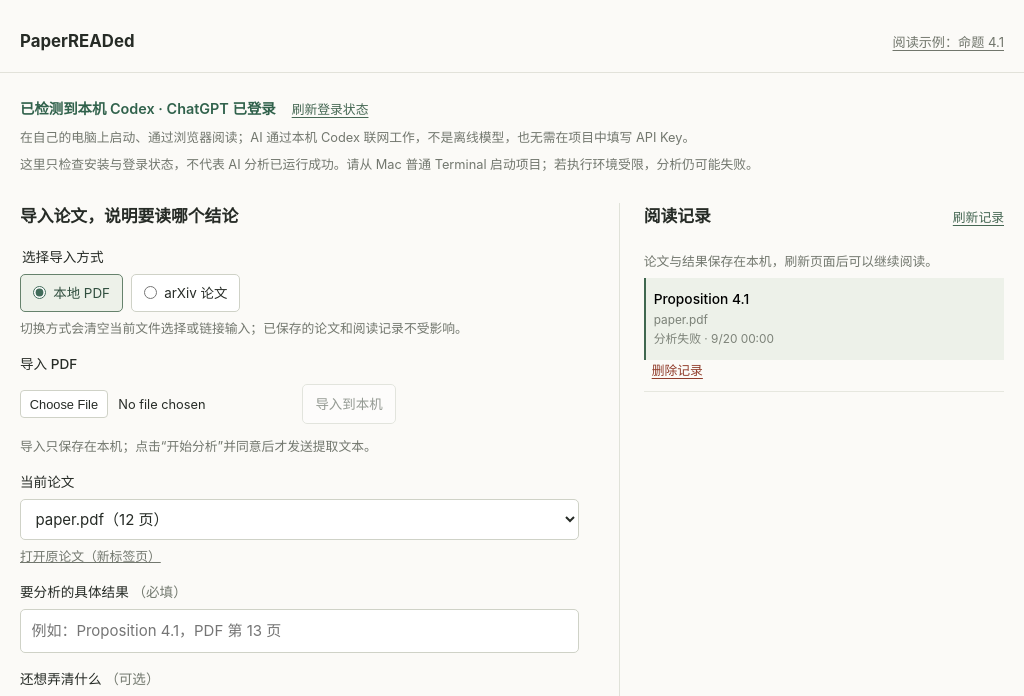
it: LocalReader › 重试历史任务清除待导入的 arXiv 输入，不下载也不自动分析
Click the radio button labelled "arXiv 论文" at (151, 293), box [144, 286, 157, 299]
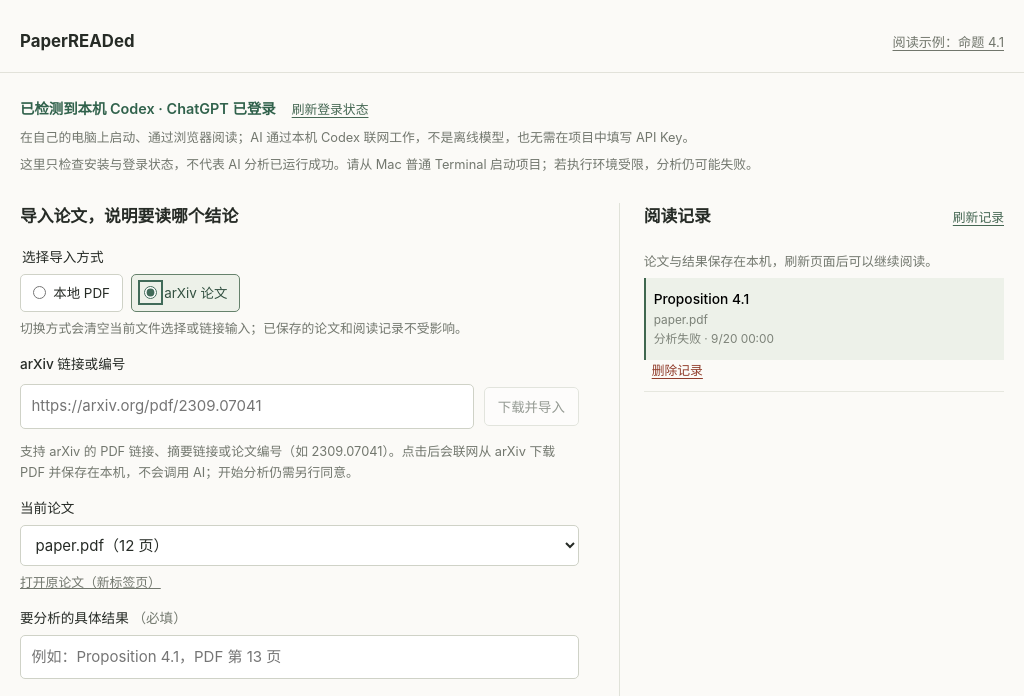
Type "2309.07041" into the field labelled "arXiv 链接或编号" at (247, 407), box [20, 384, 474, 429]
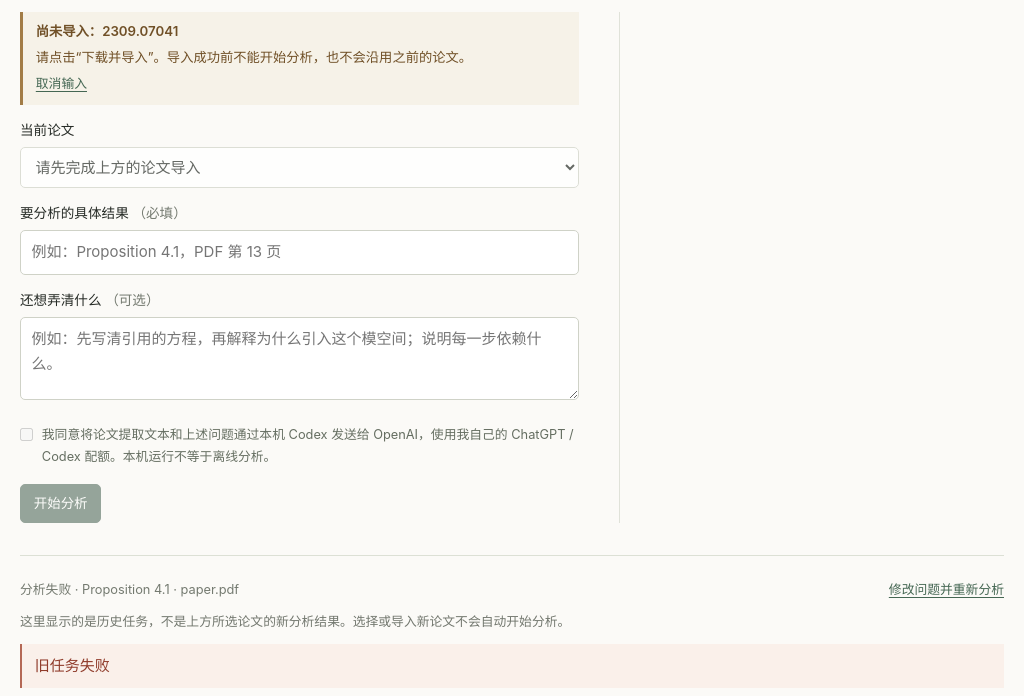
Click the button "修改问题并重新分析" at (946, 589), box [889, 579, 1004, 600]
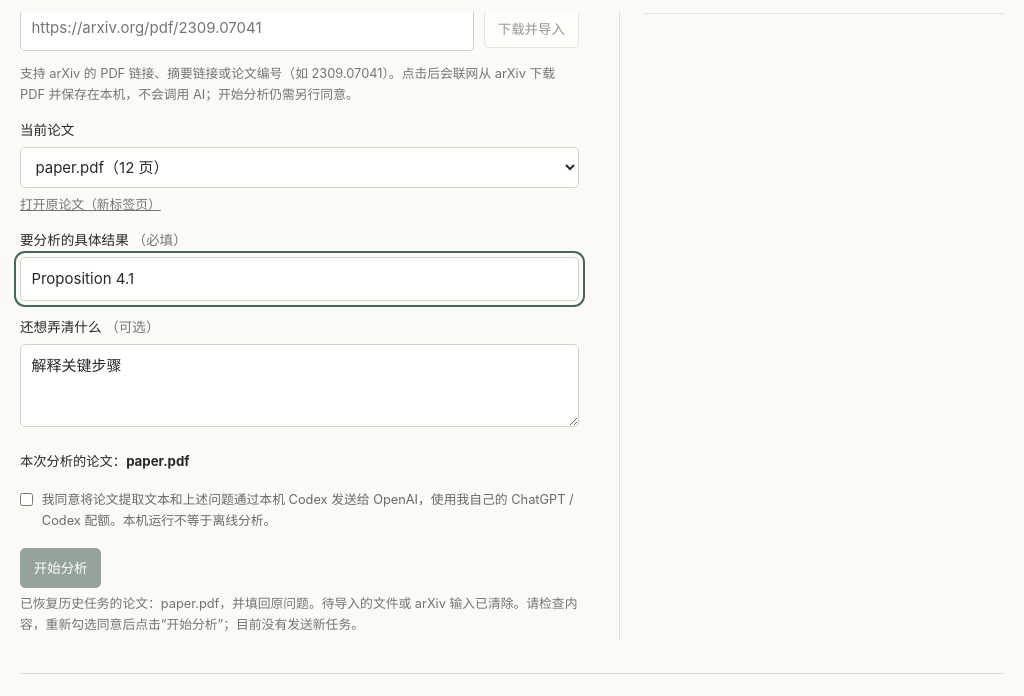
Check: the field labelled "arXiv 链接或编号" is empty, box [20, 12, 474, 51]
Check: the dropdown labelled "当前论文" shows "paper.pdf（12 页）", box [20, 147, 579, 188]
Check: the field labelled "要分析的具体结果 （必填）" holds "Proposition 4.1", box [20, 257, 579, 301]
